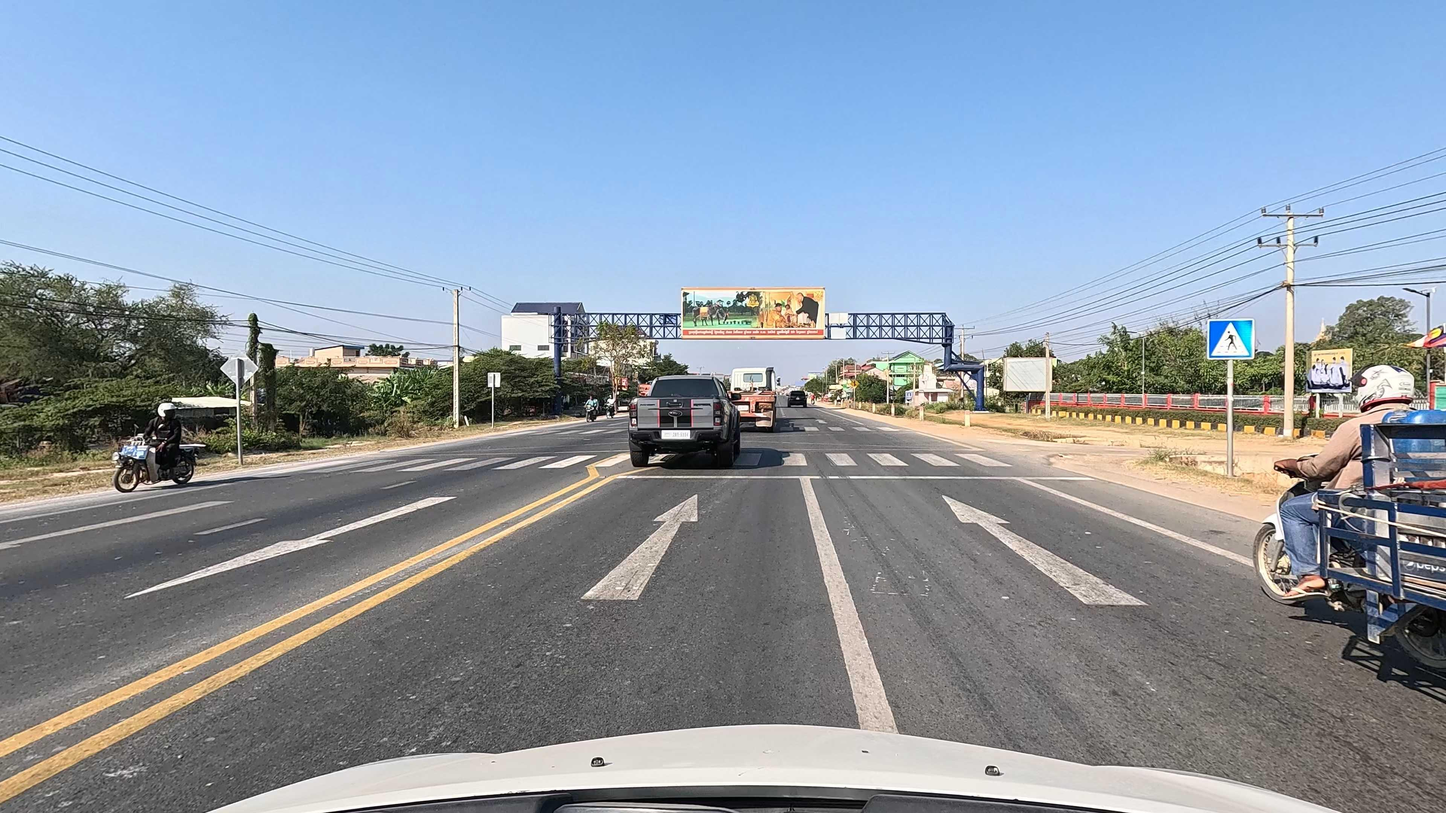pedestrian_crossing: (1207, 318, 1256, 361)
